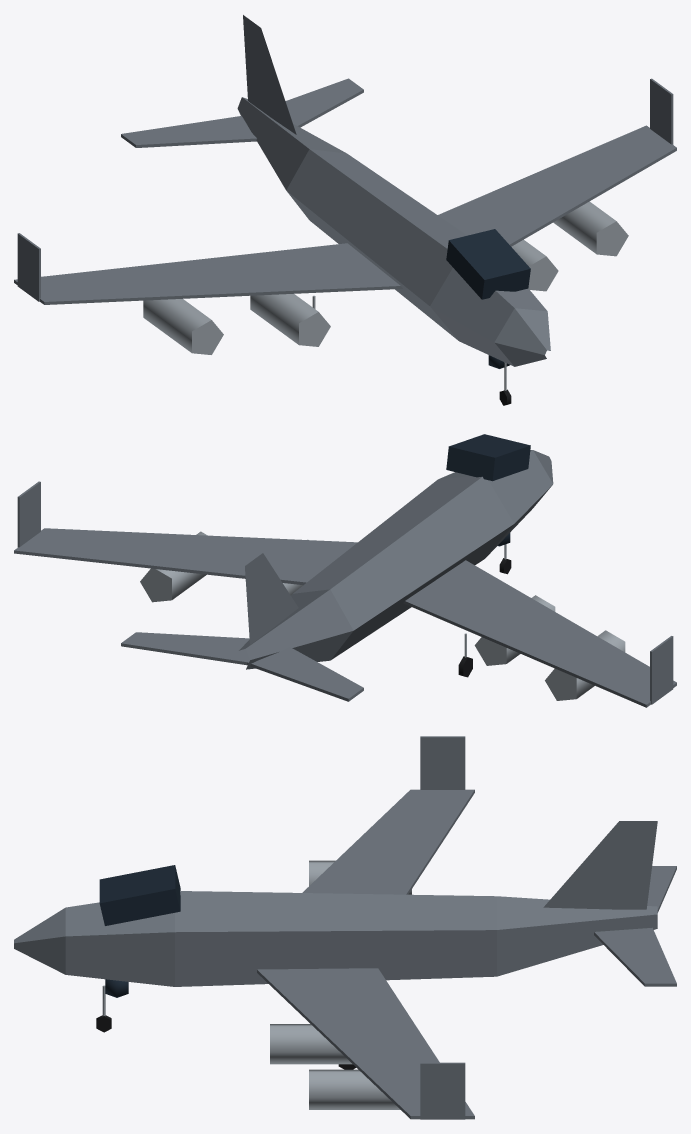
Rendered from veh_air_airliner_a08_lod1.glb.
3 views of the same model, one above another, from view 1: azimuth 30°, elevation 25°; view 2: azimuth 150°, elevation 25°; view 3: azimuth 270°, elevation 25° (orthographic). The views are drawn at different scales.
Parts seen in each view (by area): view 1: body; view 2: body; view 3: body.
Part boxes in pixels (box(x1,y1,x2,y2)): body: box(14, 15, 676, 368); body: box(14, 434, 676, 707); body: box(14, 736, 676, 1119).
Bounding box in the file's own units: 26.24 × 7.88 × 22.45.
